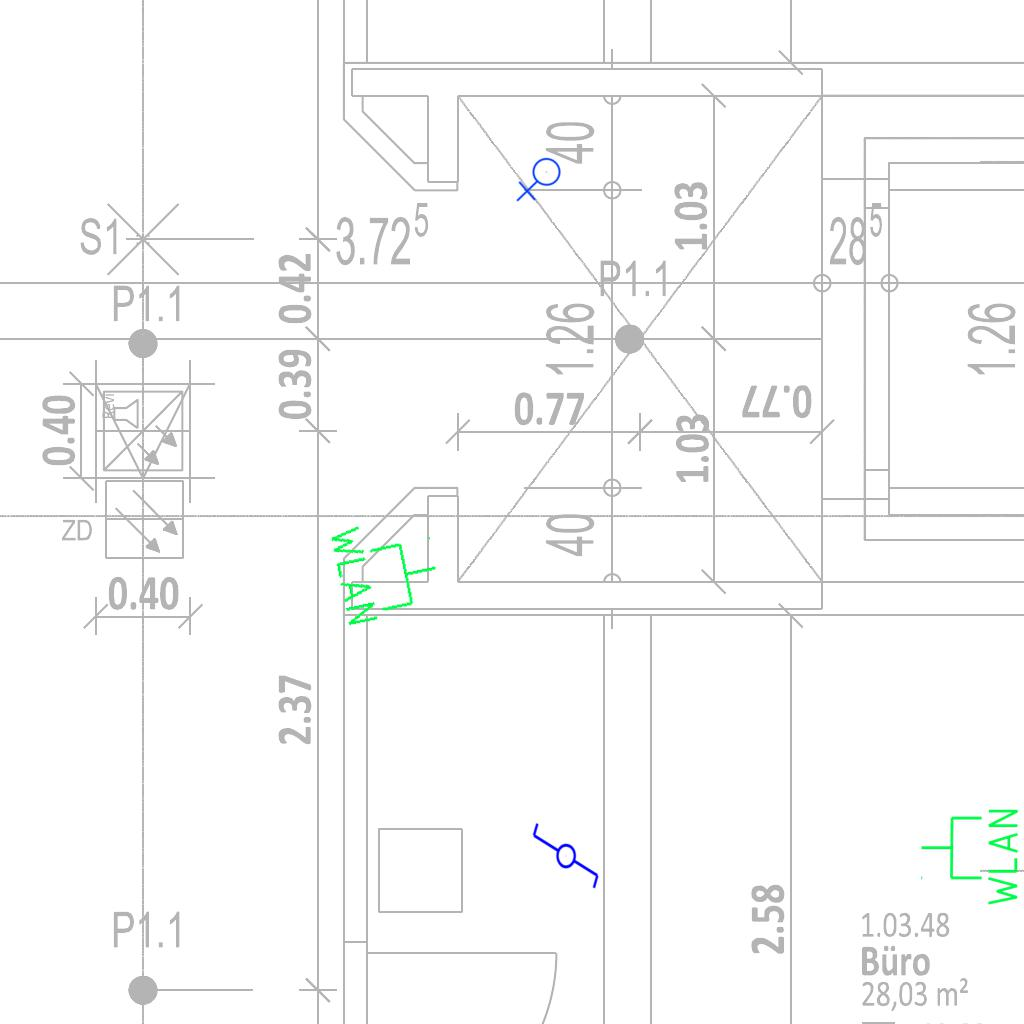Elektroanschluss_allgemein_230V_Geraeteanschlussdose_230V: (516, 157, 565, 204)
WLAN: (324, 506, 448, 631), (918, 805, 1022, 910)
Wechselschalter: (529, 821, 601, 899)
